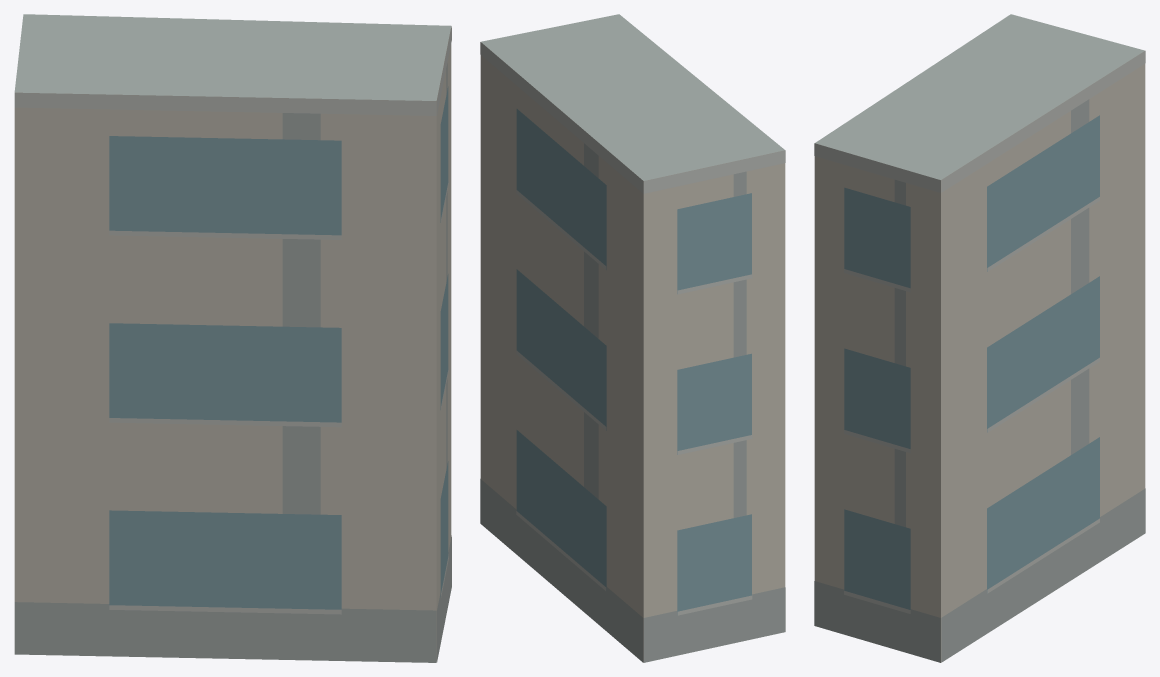
Rendered from survey-upis-32748377.glb.
The picture shows the model from 3 angles, left to right: view 1: azimuth 30°, elevation 25°; view 2: azimuth 150°, elevation 25°; view 3: azimuth 270°, elevation 25°; orthographic projection. The views are drawn at different scales.
Visible parts, largest first — view 1: survey-upis-32748377.tmp; view 2: survey-upis-32748377.tmp; view 3: survey-upis-32748377.tmp.
Part boxes in pixels (x1,y1,x2,y2): survey-upis-32748377.tmp: (14,14,451,662); survey-upis-32748377.tmp: (480,14,785,662); survey-upis-32748377.tmp: (814,14,1145,662).
Bounding box in the file's own units: 6.76 × 9.15 × 5.69.
